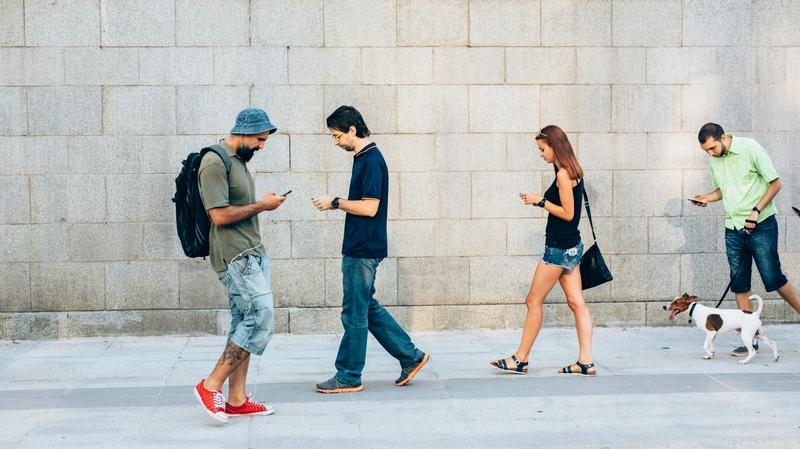Caution: (160, 100, 433, 424), (311, 106, 616, 392), (490, 123, 800, 391)
